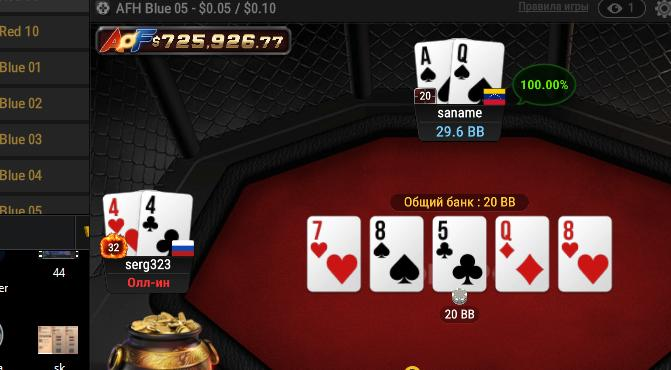4c: (140, 191, 194, 256)
4h: (102, 192, 139, 256)
5c: (434, 217, 486, 291)
7h: (308, 216, 360, 292)
8h: (558, 217, 610, 290)
8s: (370, 216, 423, 292)
As: (415, 39, 452, 104)
Qd: (496, 216, 548, 292)
Qs: (452, 36, 504, 104)
